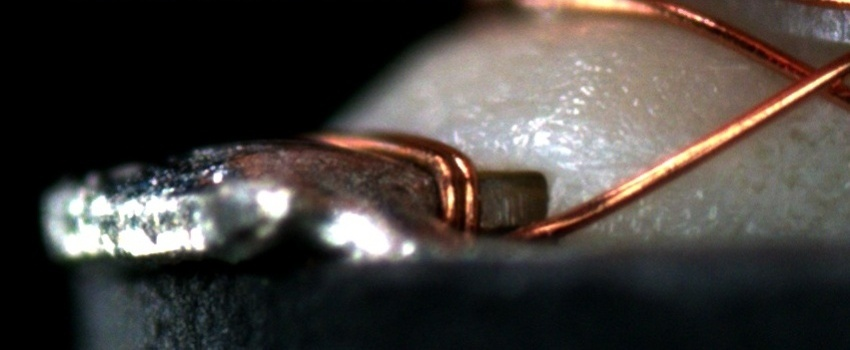CL: (772, 47, 848, 107)
DL: (571, 149, 670, 194)
TE: (312, 115, 481, 234)
